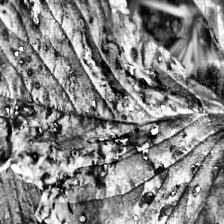Angular Leafspot: (0, 0, 224, 224), (175, 0, 224, 115)
